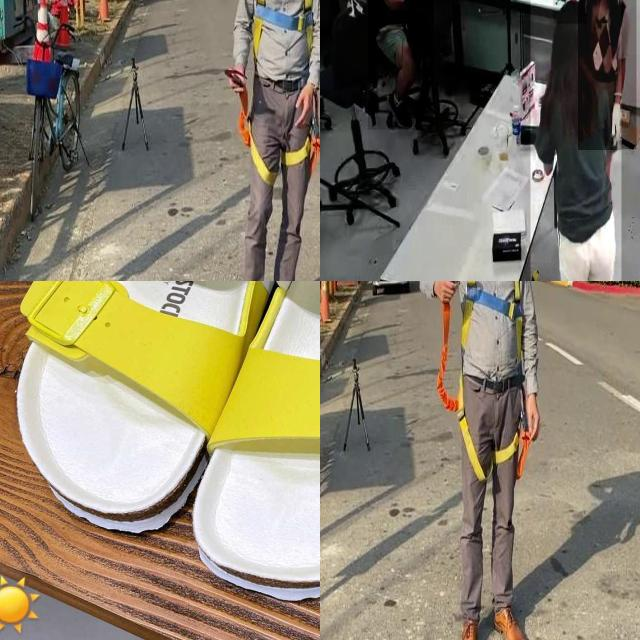Harness: (437, 304, 531, 482), (226, 69, 320, 187), (463, 281, 524, 366), (253, 0, 315, 60)
Sandals: (0, 281, 320, 622)
head_nohelmet: (553, 0, 588, 24)
person: (530, 0, 621, 281), (578, 0, 637, 150), (368, 0, 434, 130)
